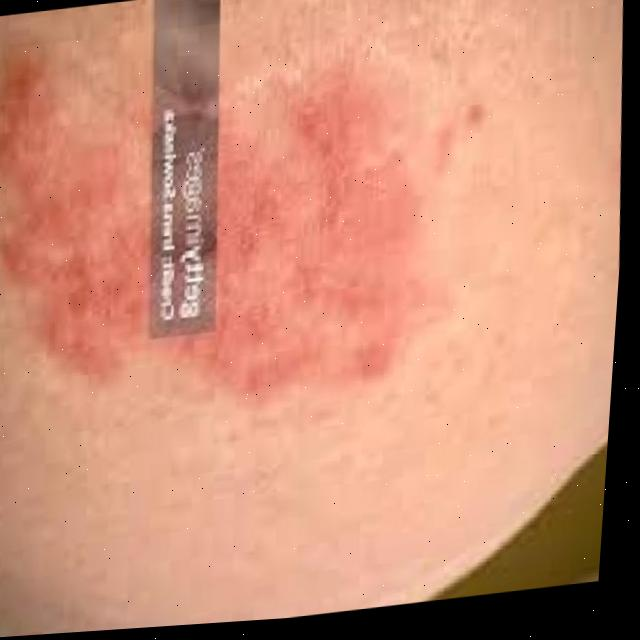Eczema: (13, 97, 425, 482)
